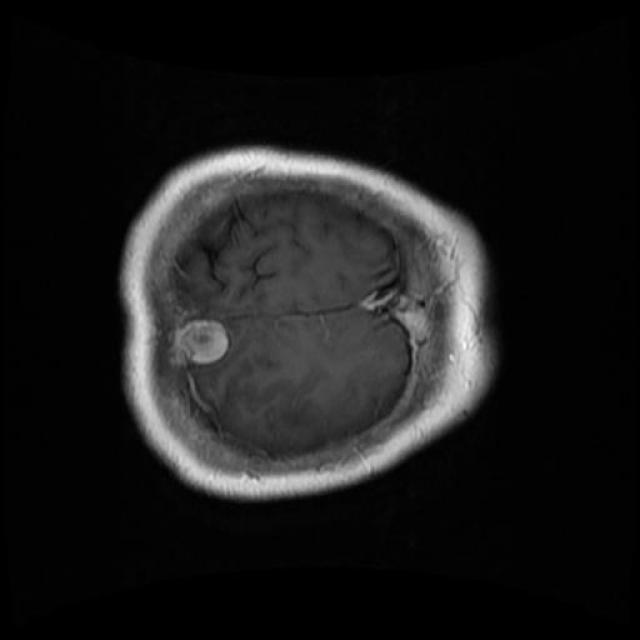Glioma: (171, 320, 227, 366)
